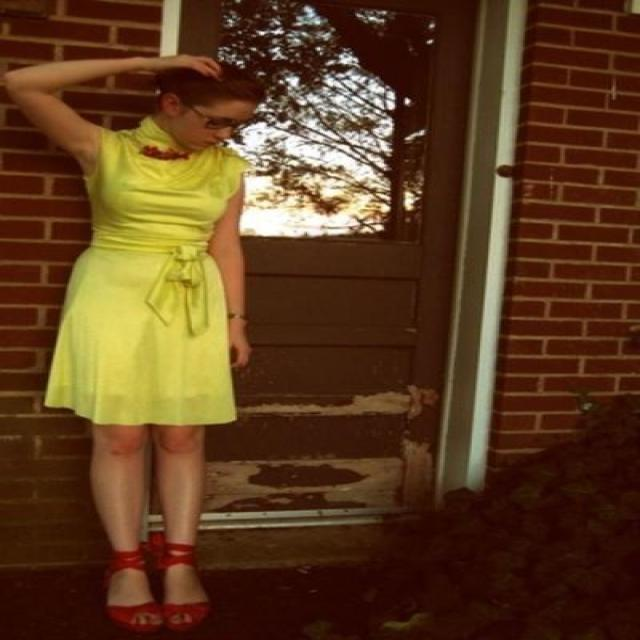dress: (45, 118, 248, 424)
shoe: (112, 525, 210, 630)
